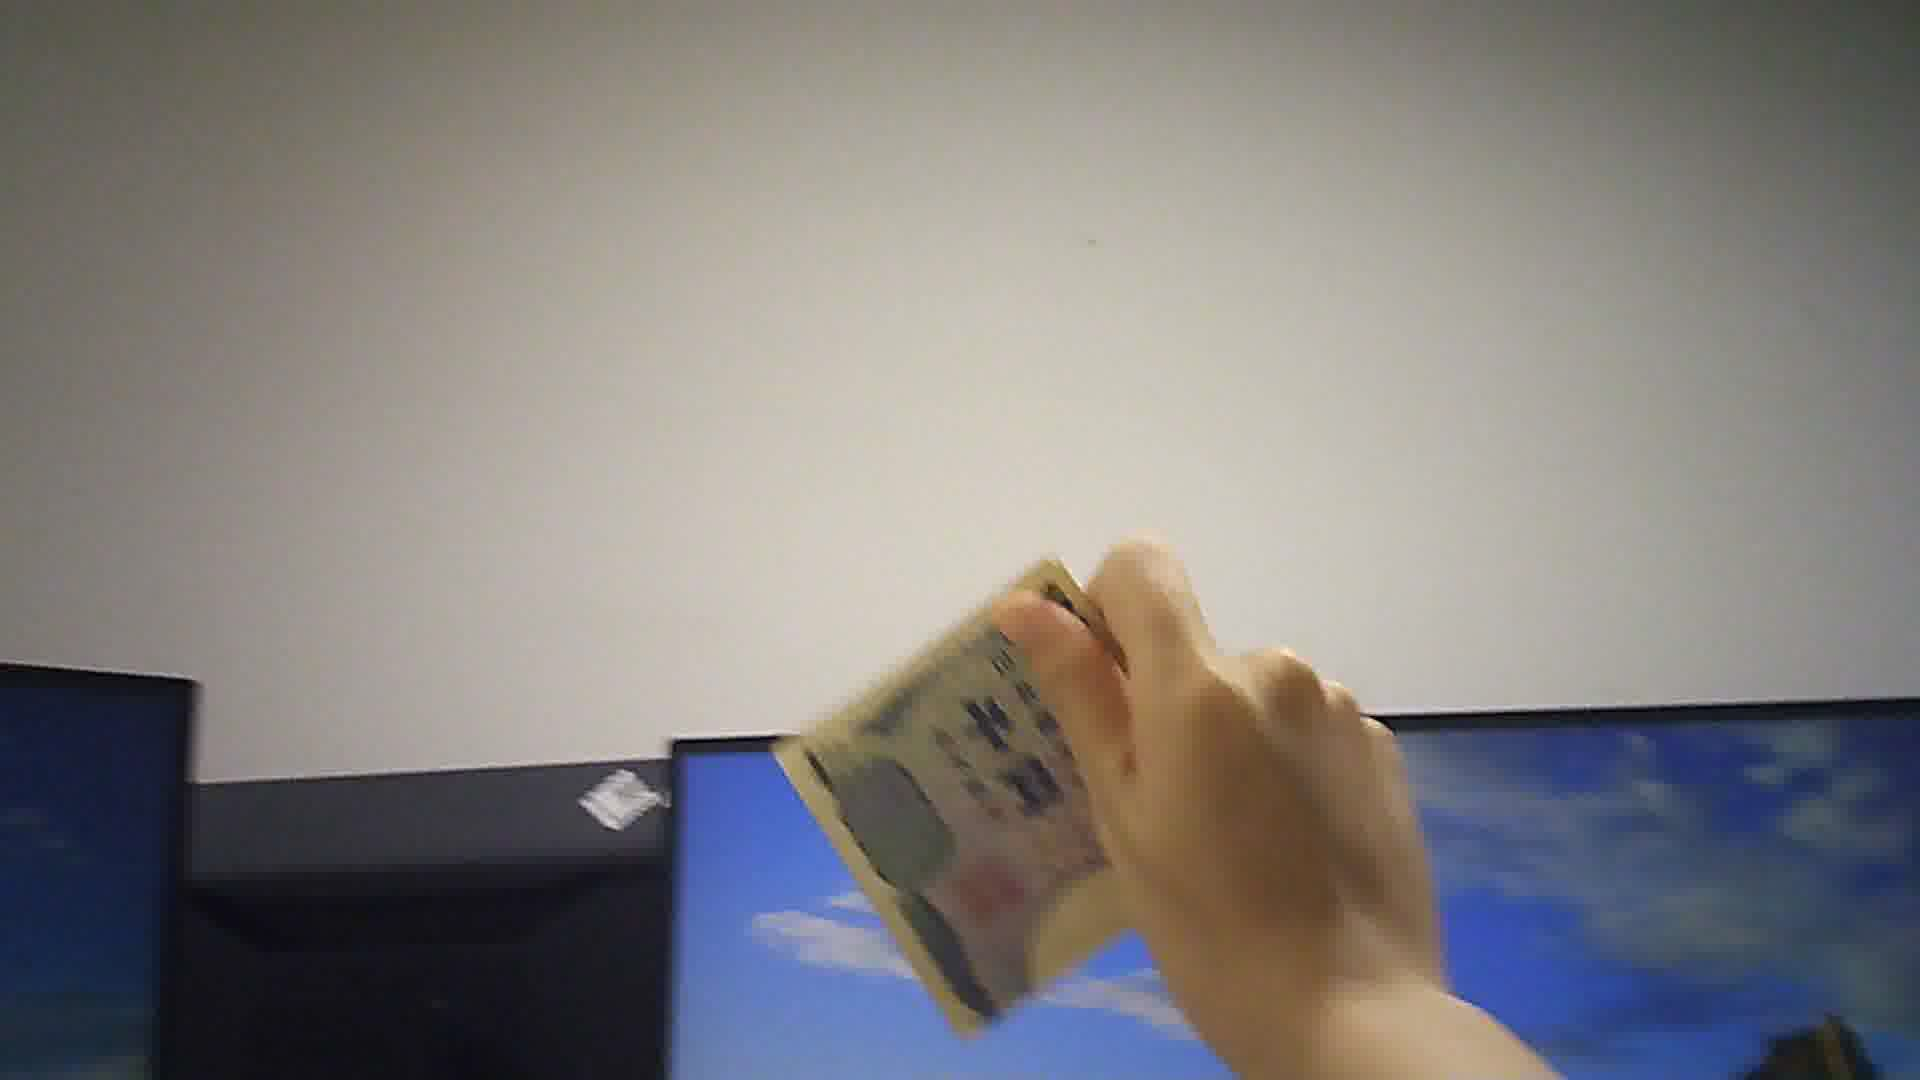1,000 Yen: (799, 566, 1257, 1036)
